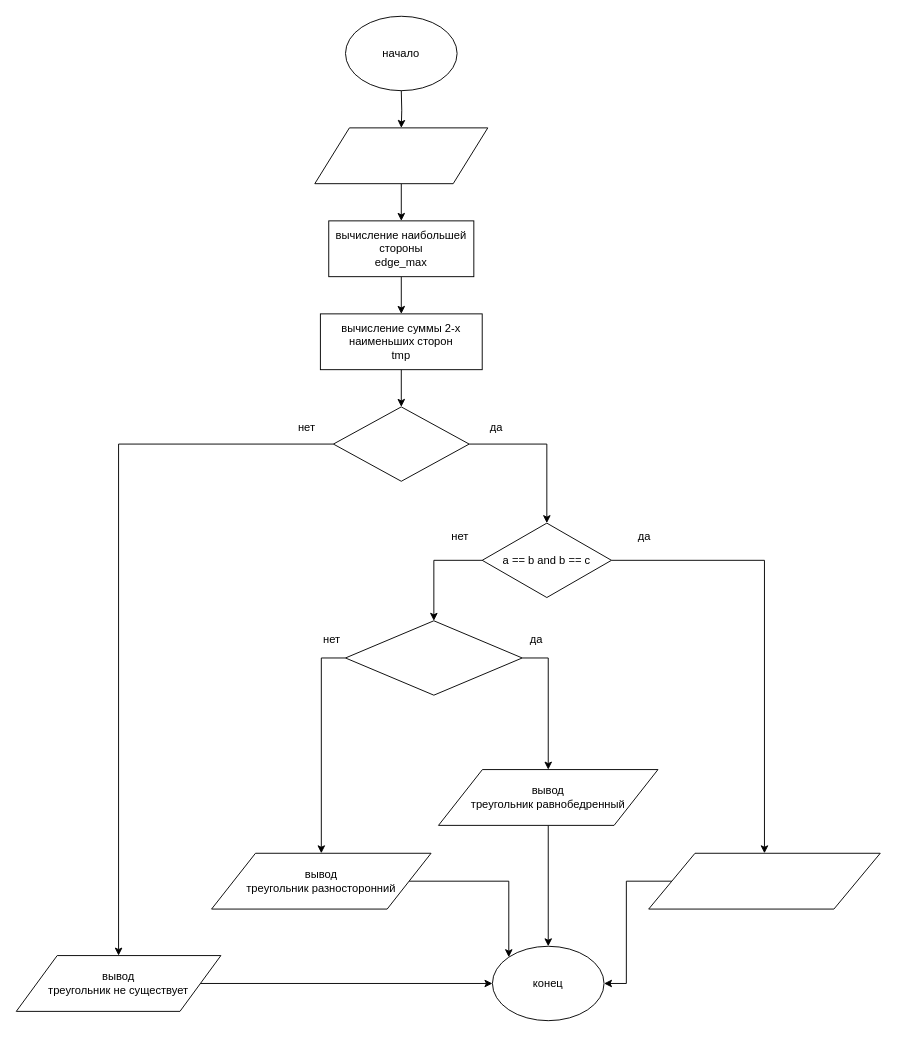
Some shapes in this 897 by 1037 pixel diagram are drawn without their labels. Each missing label, with the centre of its shape:
a == b or b == c or a == c: the point at 433,657
tmp >= edge_max: the point at 400,443
ввод a, b, c: the point at 401,155
вывод треугольник равносторонний: the point at 764,880
